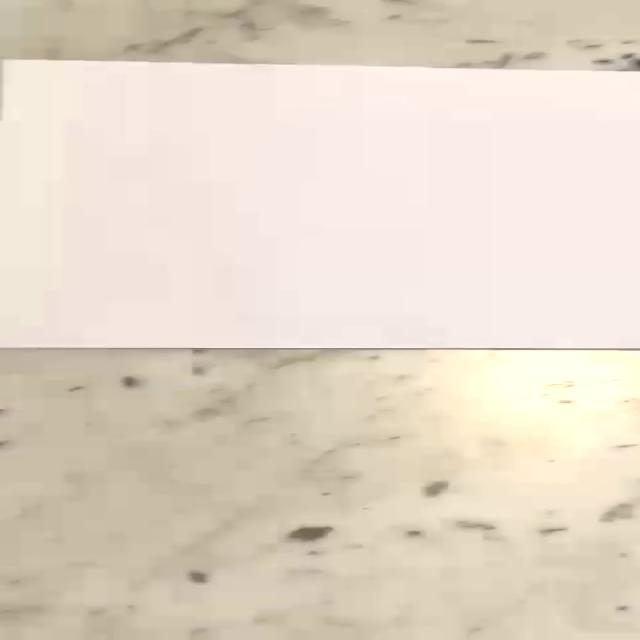road: (3, 60, 640, 347)
